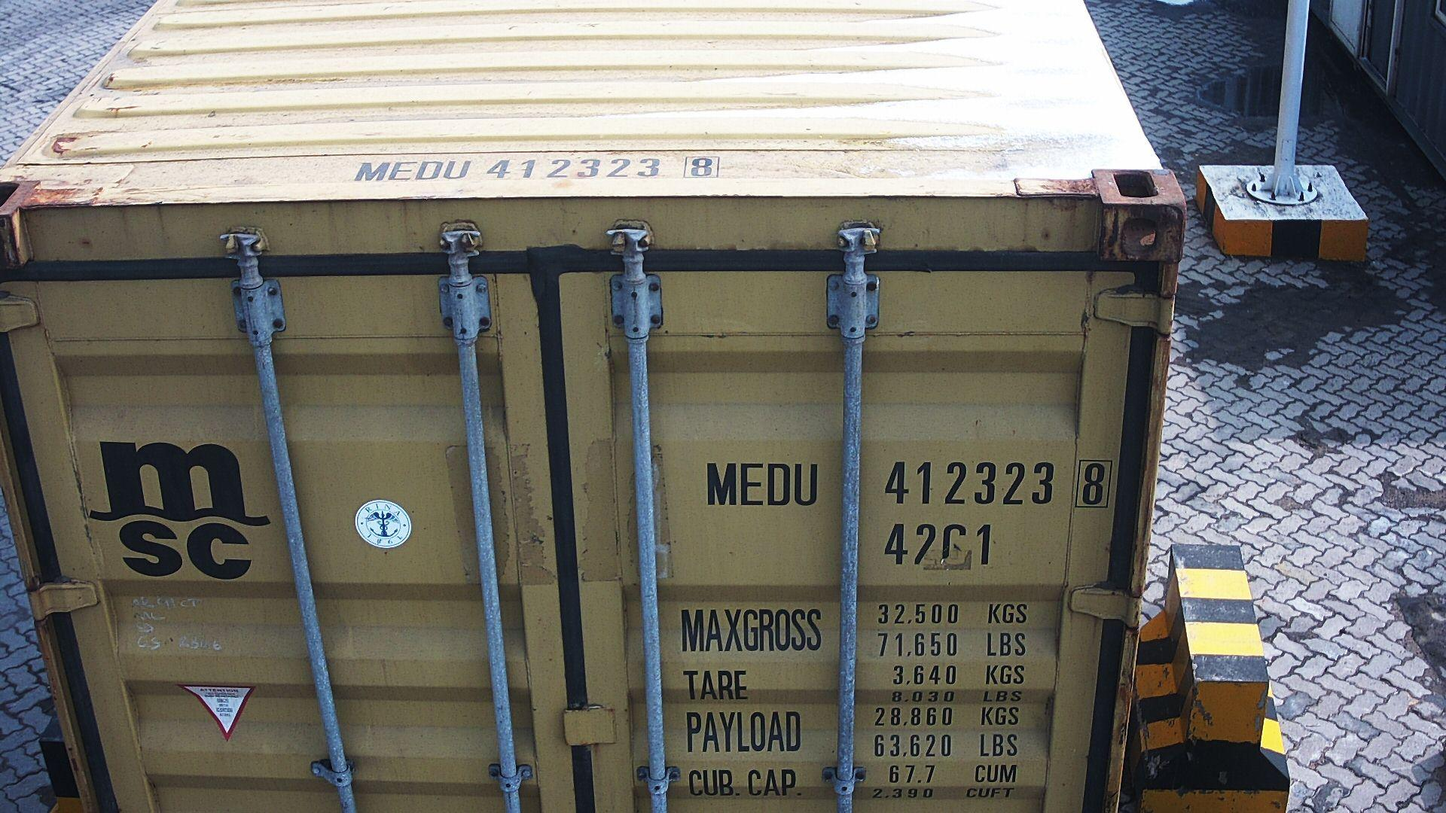container-numbers: (697, 455, 1123, 513), (346, 152, 725, 183), (881, 519, 996, 571)
